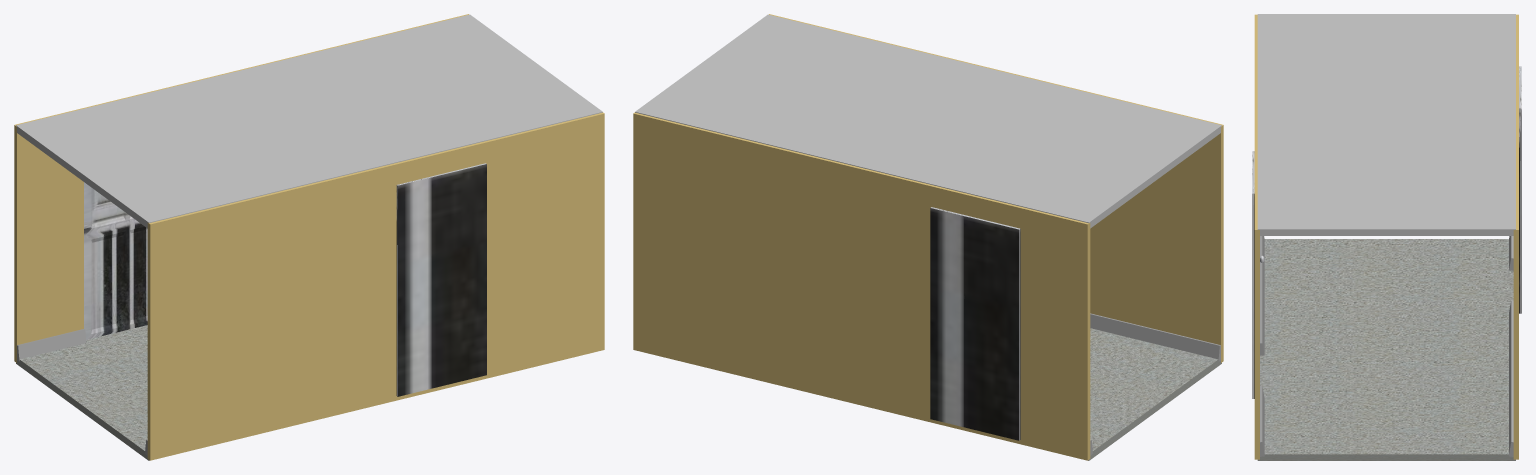
The model's file is Hallway.fbx.
3 views of the same model, side by side, from view 1: azimuth 30°, elevation 25°; view 2: azimuth 150°, elevation 25°; view 3: azimuth 270°, elevation 25° (orthographic). The views are drawn at different scales.
Parts seen in each view (by area): view 1: Cube.001, Cube.010, Cube.004, Cube, Cube.003, Cube.007; view 2: Cube.001, Cube.010, Cube.003, Cube, Cube.007; view 3: Cube.010, Cube, Cube.001, Cube.007, Cube.004, Cube.003.
Boxes of the visible parts, x1,y1,x2,y2 form: Cube.001: (14, 14, 604, 460); Cube.010: (16, 14, 602, 228); Cube.004: (396, 163, 486, 396); Cube: (16, 325, 149, 460); Cube.003: (84, 182, 147, 339); Cube.007: (17, 329, 147, 455); Cube.001: (633, 14, 1223, 460); Cube.010: (635, 14, 1221, 228); Cube.003: (930, 207, 1020, 440); Cube: (1088, 328, 1221, 460); Cube.007: (1090, 313, 1220, 455); Cube.010: (1257, 14, 1515, 235); Cube: (1257, 239, 1515, 460); Cube.001: (1254, 14, 1518, 459); Cube.007: (1260, 236, 1513, 456); Cube.004: (1252, 151, 1264, 398); Cube.003: (1519, 66, 1521, 313).
Size of the model in its own units: 679 by 340 by 358.
